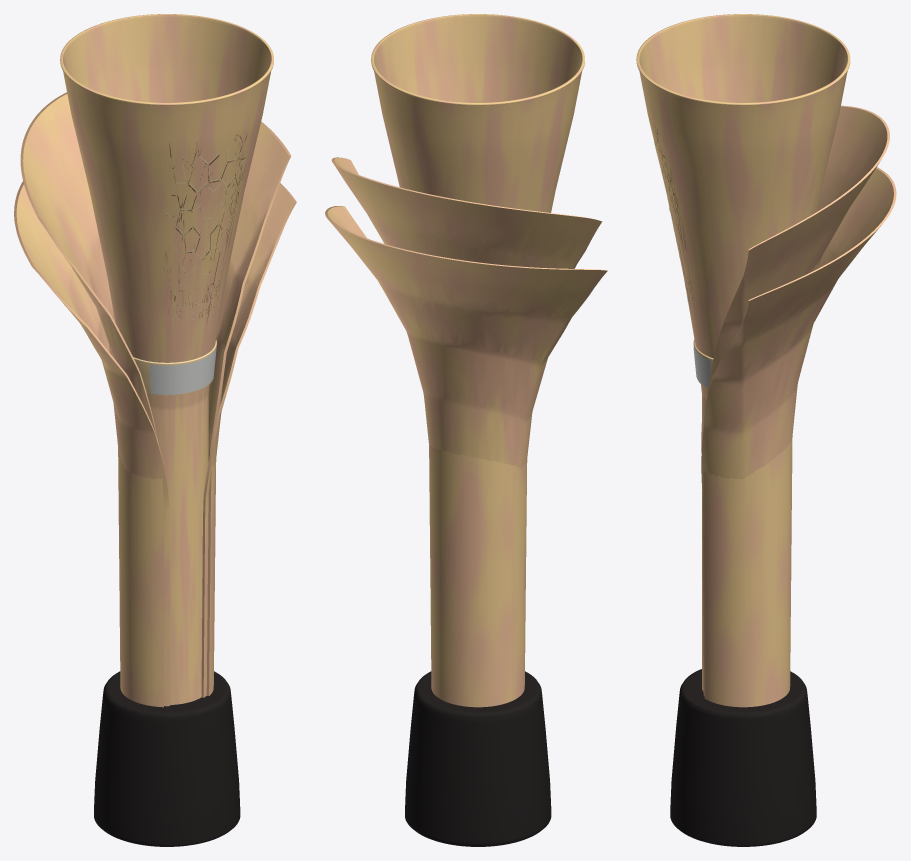
Rendered from copa-liga-femenina-petalos.glb.
3 renders of one model, left to right at view 1: azimuth 30°, elevation 25°; view 2: azimuth 150°, elevation 25°; view 3: azimuth 270°, elevation 25°, orthographic.
Parts seen in each view (by area): view 1: Tubo_y_copa, Petalos_superiores, Base_negra, Petalos_inferiores, Grabado_frontal, Placa_frontal, Anillo_placa; view 2: Petalos_superiores, Tubo_y_copa, Petalos_inferiores, Base_negra; view 3: Tubo_y_copa, Petalos_superiores, Base_negra, Petalos_inferiores.
Part boxes in pixels (bbox=[...]): Tubo_y_copa: bbox=[60, 14, 273, 704]; Petalos_superiores: bbox=[20, 92, 290, 707]; Base_negra: bbox=[94, 671, 240, 846]; Petalos_inferiores: bbox=[14, 181, 296, 706]; Grabado_frontal: bbox=[162, 133, 247, 320]; Placa_frontal: bbox=[150, 348, 216, 394]; Anillo_placa: bbox=[133, 339, 216, 395]; Petalos_superiores: bbox=[331, 157, 601, 707]; Tubo_y_copa: bbox=[371, 14, 584, 212]; Petalos_inferiores: bbox=[325, 206, 607, 468]; Base_negra: bbox=[405, 671, 551, 846]; Tubo_y_copa: bbox=[636, 14, 850, 691]; Petalos_superiores: bbox=[703, 105, 889, 707]; Base_negra: bbox=[670, 669, 816, 846]; Petalos_inferiores: bbox=[701, 167, 896, 695].
Bounding box in the file's own units: 0.2194 × 0.6 × 0.1865.
Materials: 5 (2 with a texture image).
